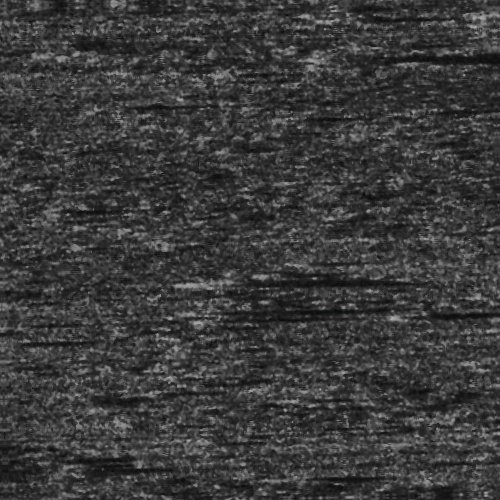object: (169, 275, 242, 284), (179, 305, 242, 312), (401, 109, 454, 116), (336, 15, 389, 22), (380, 313, 421, 322), (304, 55, 367, 60), (71, 99, 134, 104), (265, 115, 318, 120), (0, 334, 37, 339), (195, 315, 226, 320), (266, 477, 297, 480)
shadow: (206, 275, 394, 284), (211, 305, 401, 312), (335, 55, 500, 60), (400, 313, 491, 322), (363, 15, 453, 22), (211, 315, 318, 320), (428, 109, 500, 116), (103, 99, 179, 104), (292, 115, 350, 120), (10, 334, 56, 339), (282, 477, 336, 480)
